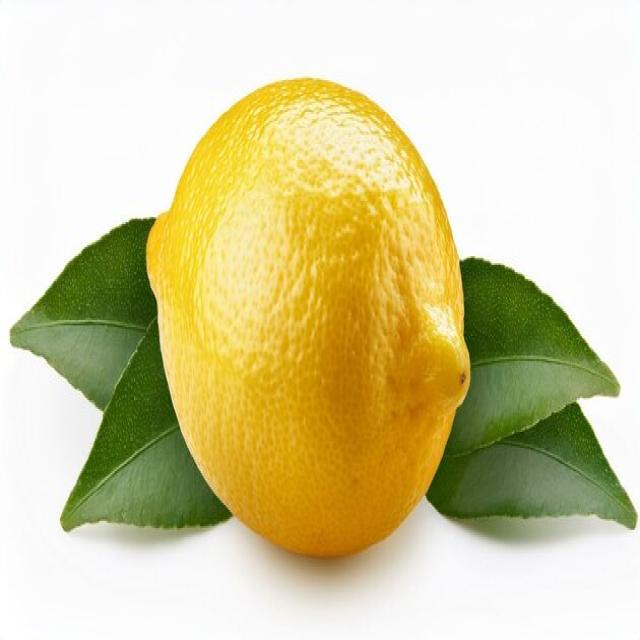Lemon: (144, 75, 472, 558)
